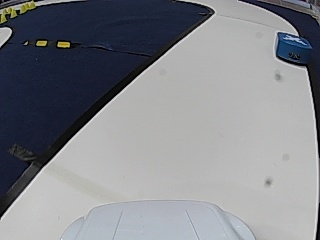prop: (276, 31, 314, 67)
